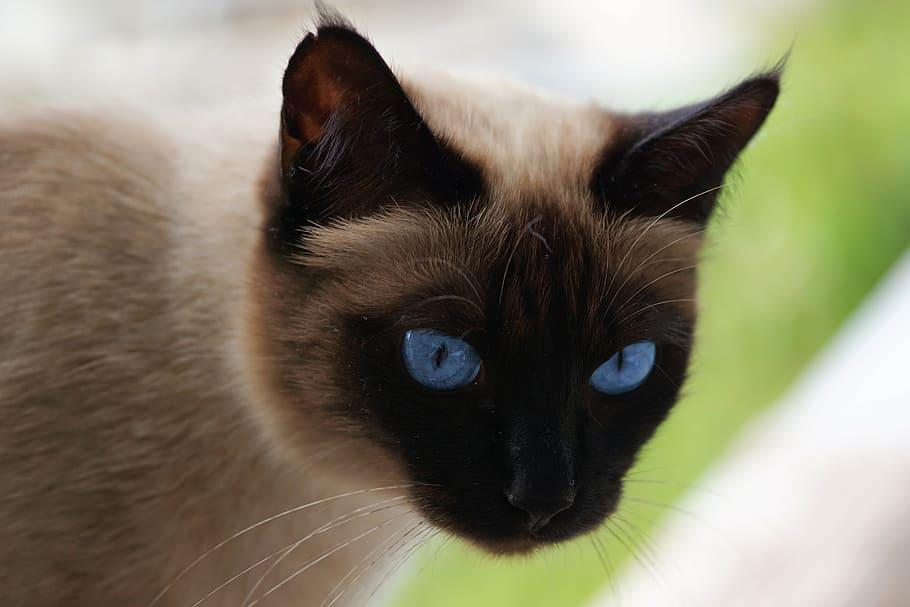siamese: (252, 5, 781, 583)
